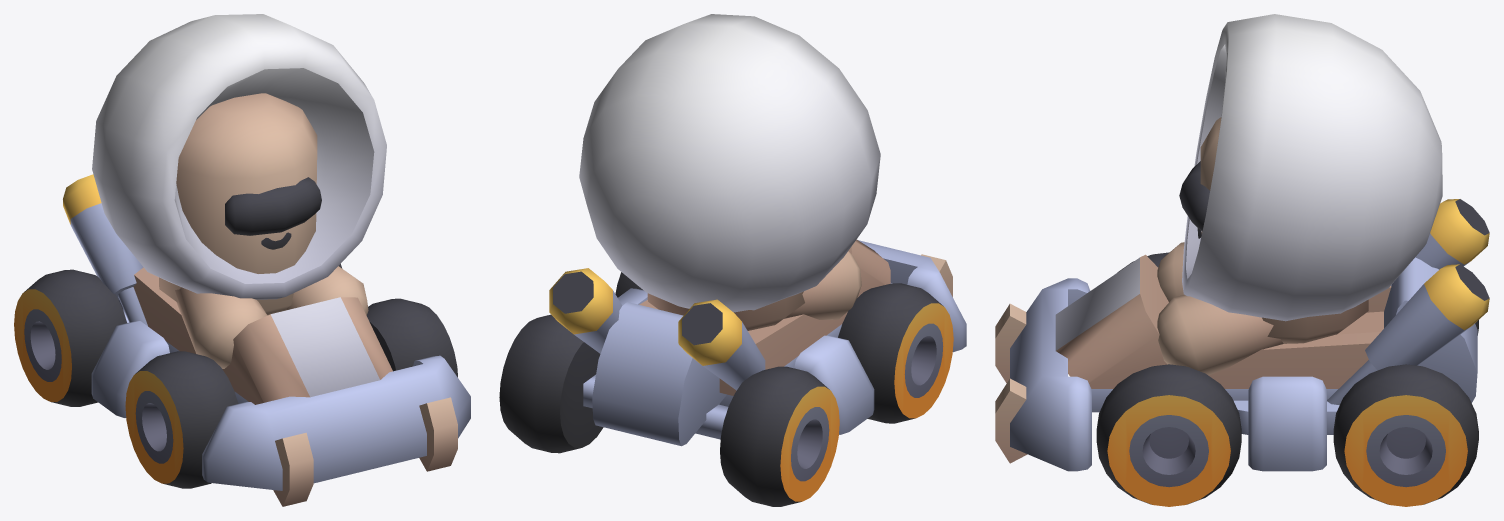
The model's file is kart-oozi.fbx.
3 views of the same model, side by side, from view 1: azimuth 30°, elevation 25°; view 2: azimuth 150°, elevation 25°; view 3: azimuth 270°, elevation 25° (orthographic). The views are drawn at different scales.
Visible parts, largest first — view 1: character, kart-oozi, wheel-back-right, wheel-front-right, wheel-front-left; view 2: character, kart-oozi, wheel-back-right, wheel-front-right, wheel-back-left; view 3: character, kart-oozi, wheel-front-left, wheel-back-left.
Boxes of the visible parts, <box> form: character: <box>92,14,386,368</box>; kart-oozi: <box>63,174,470,506</box>; wheel-back-right: <box>14,269,126,406</box>; wheel-front-right: <box>125,351,238,488</box>; wheel-front-left: <box>366,298,457,377</box>; character: <box>579,14,880,330</box>; kart-oozi: <box>549,239,966,446</box>; wheel-back-right: <box>720,366,839,506</box>; wheel-front-right: <box>838,283,953,423</box>; wheel-back-left: <box>499,314,603,453</box>; character: <box>1157,14,1442,375</box>; kart-oozi: <box>995,199,1489,471</box>; wheel-front-left: <box>1096,364,1241,506</box>; wheel-back-left: <box>1333,364,1478,506</box>.
Size of the model in its own units: 97.43 by 133 by 143.
Materials: 1 (1 with a texture image).
